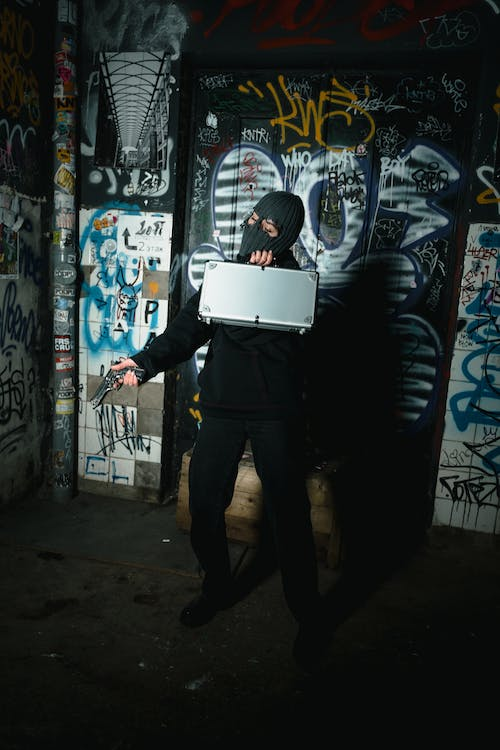gun: (88, 357, 146, 409)
